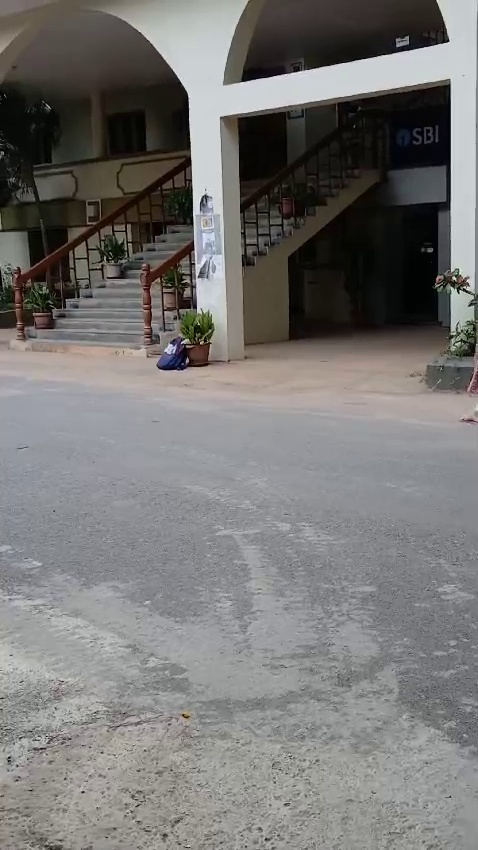bag: (152, 326, 191, 372)
